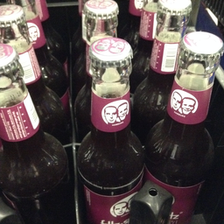soda: (146, 32, 222, 224), (1, 44, 75, 224), (77, 38, 144, 224)
